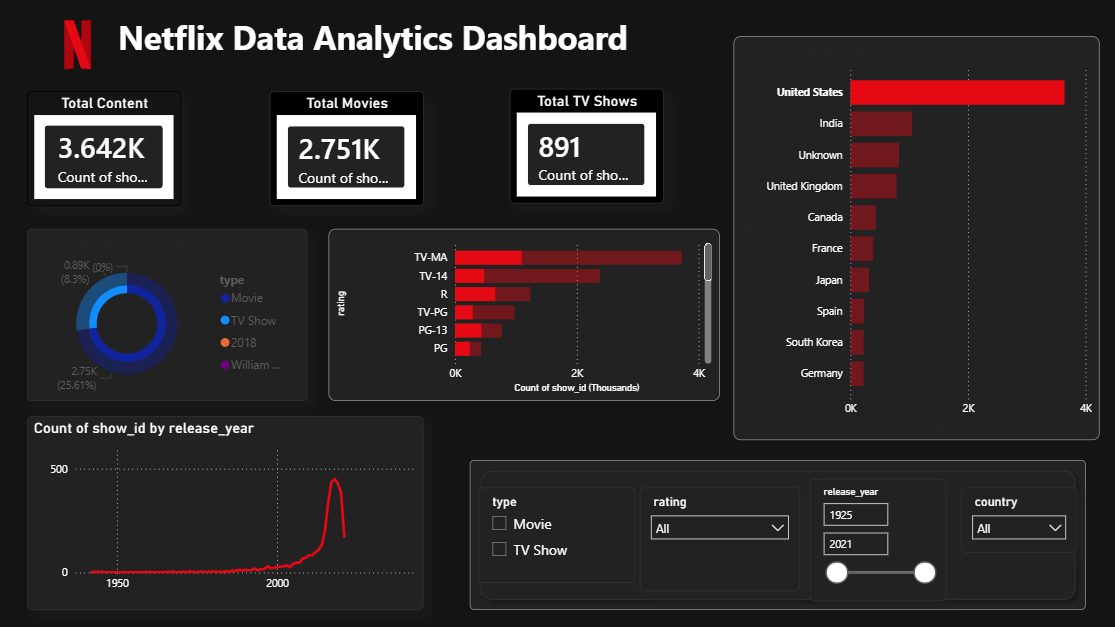

This screenshot's page, from the dashboard's own definition file:
{"tool":"powerbi","page":{"name":"Page 1","canvas":[1280,720],"ordinal":0},"visuals":[{"type":"shape","box":[541.4,525.7,704.3,171.4],"z":0},{"type":"cardVisual","title":"Total Content","fields":{"Data":["Count(cleaned_netflix_data.show_id)"]},"box":[35.7,104.3,175.7,131.4],"z":1000},{"type":"cardVisual","title":"Total Movies","fields":{"Data":["Count(cleaned_netflix_data.show_id)"]},"box":[312.9,104.3,175.7,131.4],"z":2000},{"type":"donutChart","fields":{"Category":["cleaned_netflix_data.type"],"Y":["CountNonNull(cleaned_netflix_data.show_id)"]},"box":[35.7,261.4,320,197.1],"z":3000},{"type":"clusteredBarChart","fields":{"Category":["cleaned_netflix_data.country"],"Y":["CountNonNull(cleaned_netflix_data.show_id)"]},"box":[842.9,41.4,418.6,461.4],"z":4000},{"type":"lineChart","fields":{"Category":["cleaned_netflix_data.release_year"],"Y":["CountNonNull(cleaned_netflix_data.show_id)"]},"box":[35.7,475.7,452.9,221.4],"z":5000},{"type":"clusteredBarChart","fields":{"Category":["cleaned_netflix_data.rating"],"Y":["CountNonNull(cleaned_netflix_data.show_id)"]},"box":[380,261.4,447.1,197.1],"z":6000},{"type":"slicer","fields":{"Values":["cleaned_netflix_data.type"]},"box":[551.4,557.1,178.6,108.6],"z":7000},{"type":"slicer","fields":{"Values":["cleaned_netflix_data.country"]},"box":[1102.9,557.1,132.9,74.3],"z":8000},{"type":"slicer","fields":{"Values":["cleaned_netflix_data.rating"]},"box":[735.7,557.1,182.9,118.6],"z":9000},{"type":"slicer","fields":{"Values":["cleaned_netflix_data.release_year"]},"box":[930,547.1,155.7,140],"z":10000},{"type":"textbox","box":[114.3,12.9,632.9,91.4],"z":11000},{"type":"cardVisual","title":"Total TV Shows","fields":{"Data":["Count(cleaned_netflix_data.show_id)"]},"box":[587.1,101.4,175.7,131.4],"z":12000},{"type":"image","box":[0,0,186,102],"z":12001}]}

Visuals, with their boxes in screenshot pixels (x1, y1, x2, y2), scaled from the page's 1280x720 canvas onto the 1115x627 screenshot:
shape: (472, 458, 1085, 607)
"Total Content" cardVisual: (31, 91, 184, 205)
"Total Movies" cardVisual: (273, 91, 426, 205)
donutChart - cleaned_netflix_data.type x CountNonNull(cleaned_netflix_data.show_id): (31, 228, 310, 399)
clusteredBarChart - cleaned_netflix_data.country x CountNonNull(cleaned_netflix_data.show_id): (734, 36, 1099, 438)
lineChart - cleaned_netflix_data.release_year x CountNonNull(cleaned_netflix_data.show_id): (31, 414, 426, 607)
clusteredBarChart - cleaned_netflix_data.rating x CountNonNull(cleaned_netflix_data.show_id): (331, 228, 720, 399)
slicer - cleaned_netflix_data.type: (480, 485, 636, 580)
slicer - cleaned_netflix_data.country: (961, 485, 1076, 550)
slicer - cleaned_netflix_data.rating: (641, 485, 800, 588)
slicer - cleaned_netflix_data.release_year: (810, 476, 946, 598)
textbox: (100, 11, 651, 91)
"Total TV Shows" cardVisual: (511, 88, 664, 203)
image: (0, 0, 162, 89)
